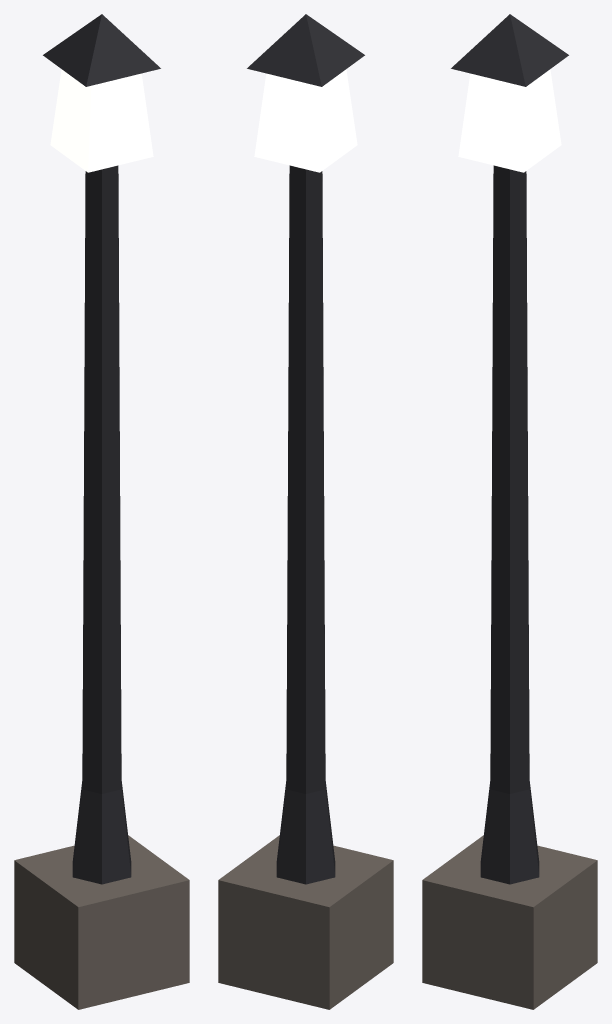
The model's file is lamp_single.fbx.
3 renders of one model, left to right at view 1: azimuth 30°, elevation 25°; view 2: azimuth 150°, elevation 25°; view 3: azimuth 330°, elevation 25°, orthographic.
Parts seen in each view (by area): view 1: lamp_single; view 2: lamp_single; view 3: lamp_single.
Part boxes in pixels (x1,y1,x2,y2): lamp_single: (14,14,189,1009); lamp_single: (218,14,393,1009); lamp_single: (422,14,597,1009).
Size of the model in its own units: 0.34 by 2.8 by 0.34.
